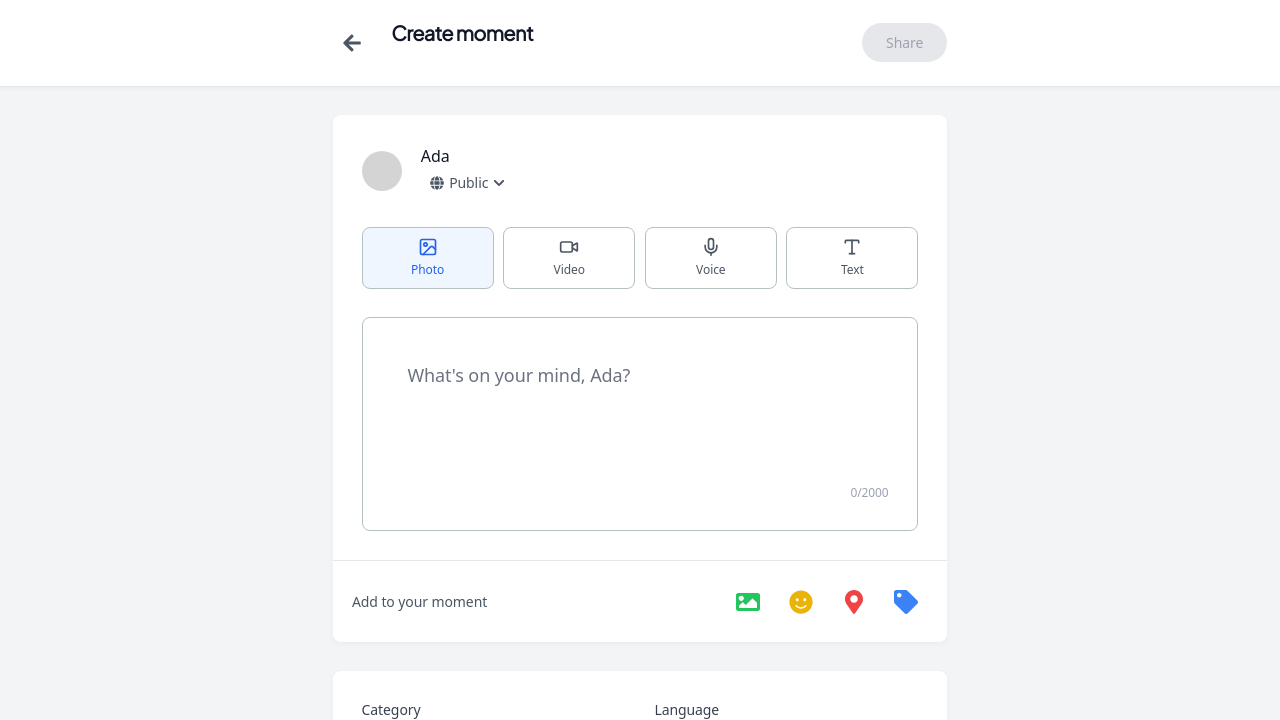
Test case: scheduling › a past time blocks sharing
Type "Hi" into the text box with placeholder "What's on your mind, Ada?" at (640, 407), box [391, 347, 889, 467]
(page scrolled)
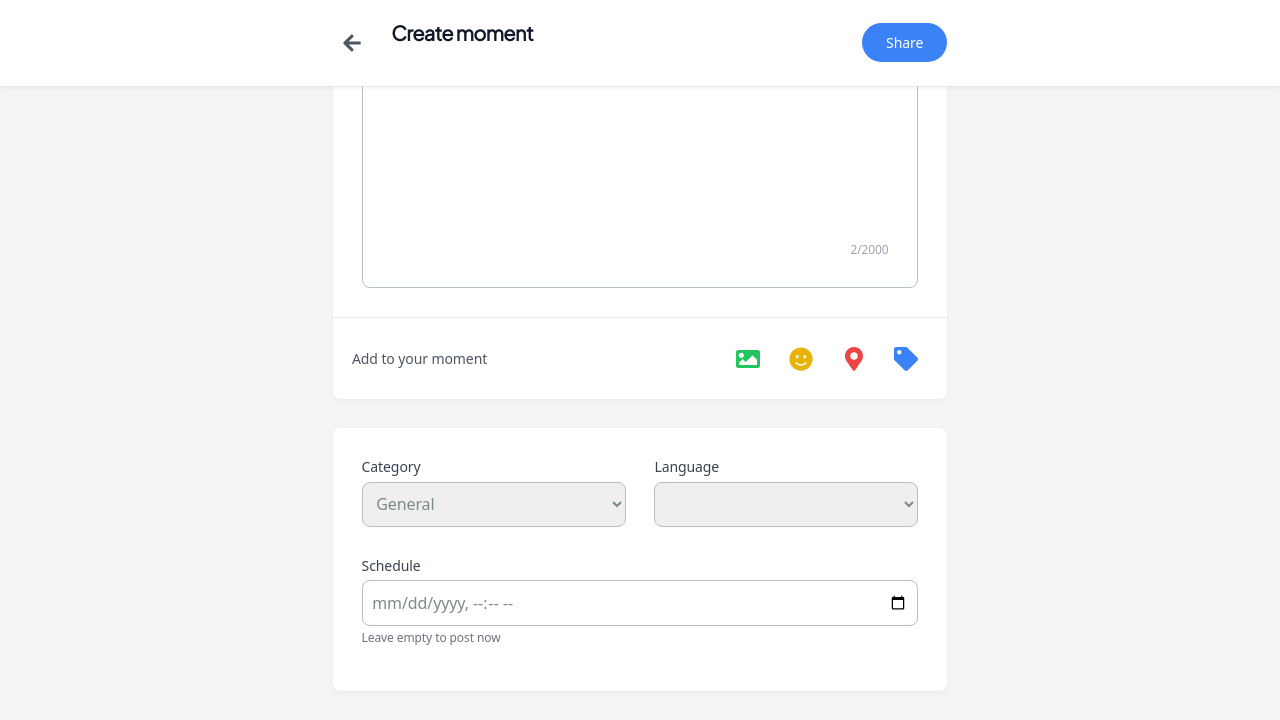
Type "2020-01-02T09:30" into the field labelled "Schedule" at (640, 603), box [362, 580, 918, 626]
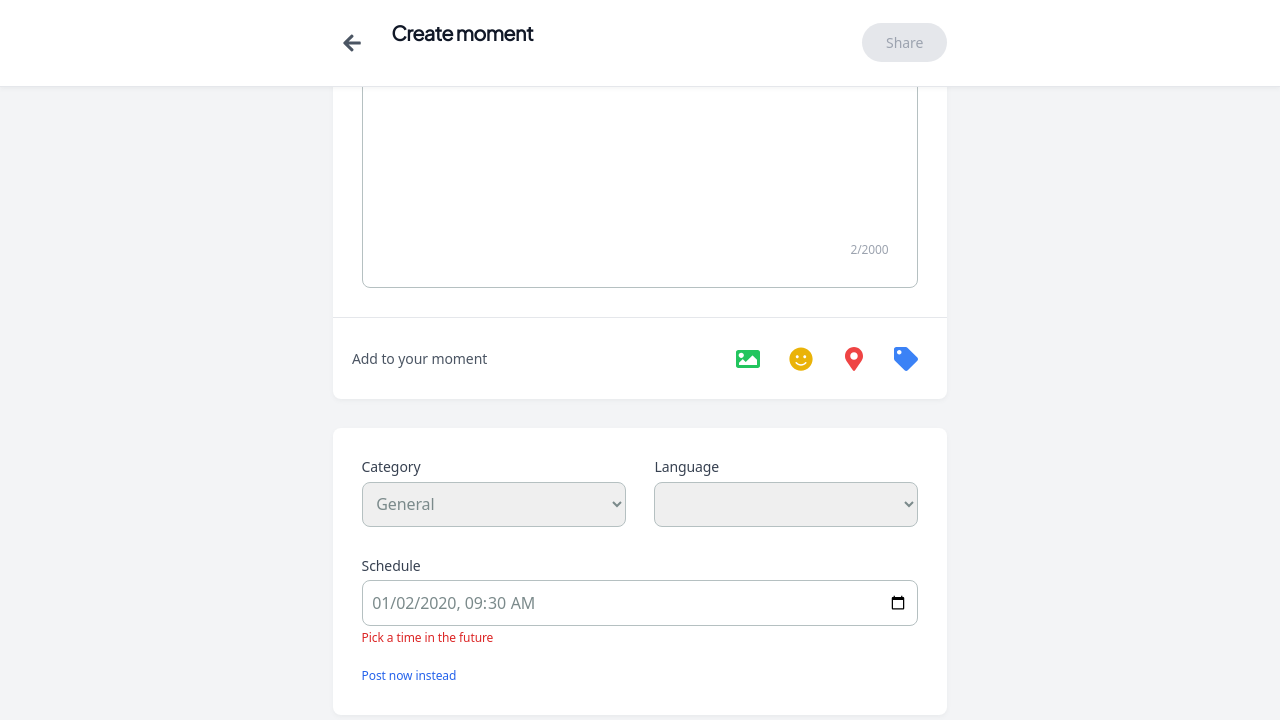
expect the button "Share" is disabled: met, box [862, 23, 947, 62]
